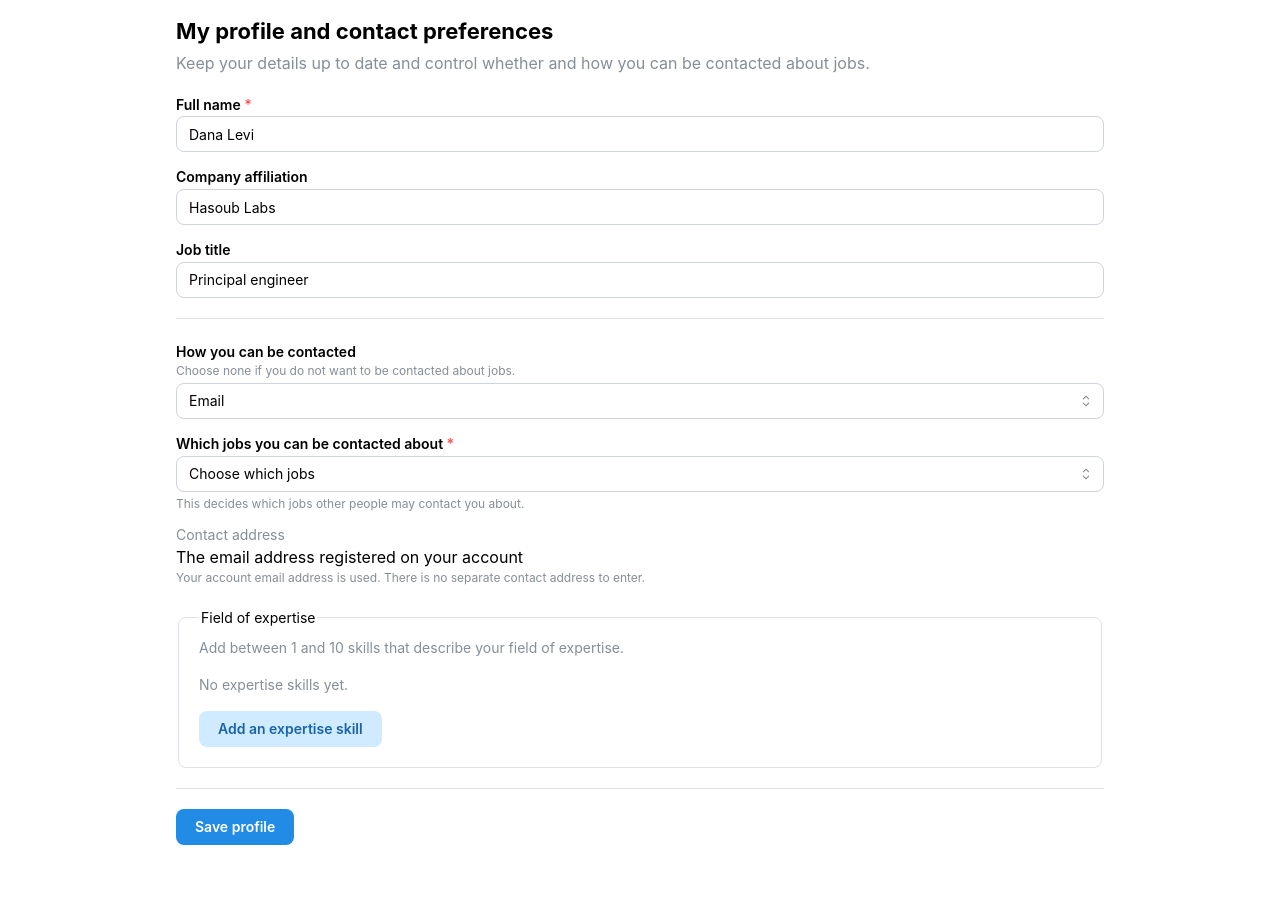
Test: the Contact_Scope_Preference control (Req 10 AC4) › reports the missing scope on the control and issues no save
This screenshot has width=1280, height=900.
Click the button with test id "senior-profile-save": (235, 827) [176,809,294,845]
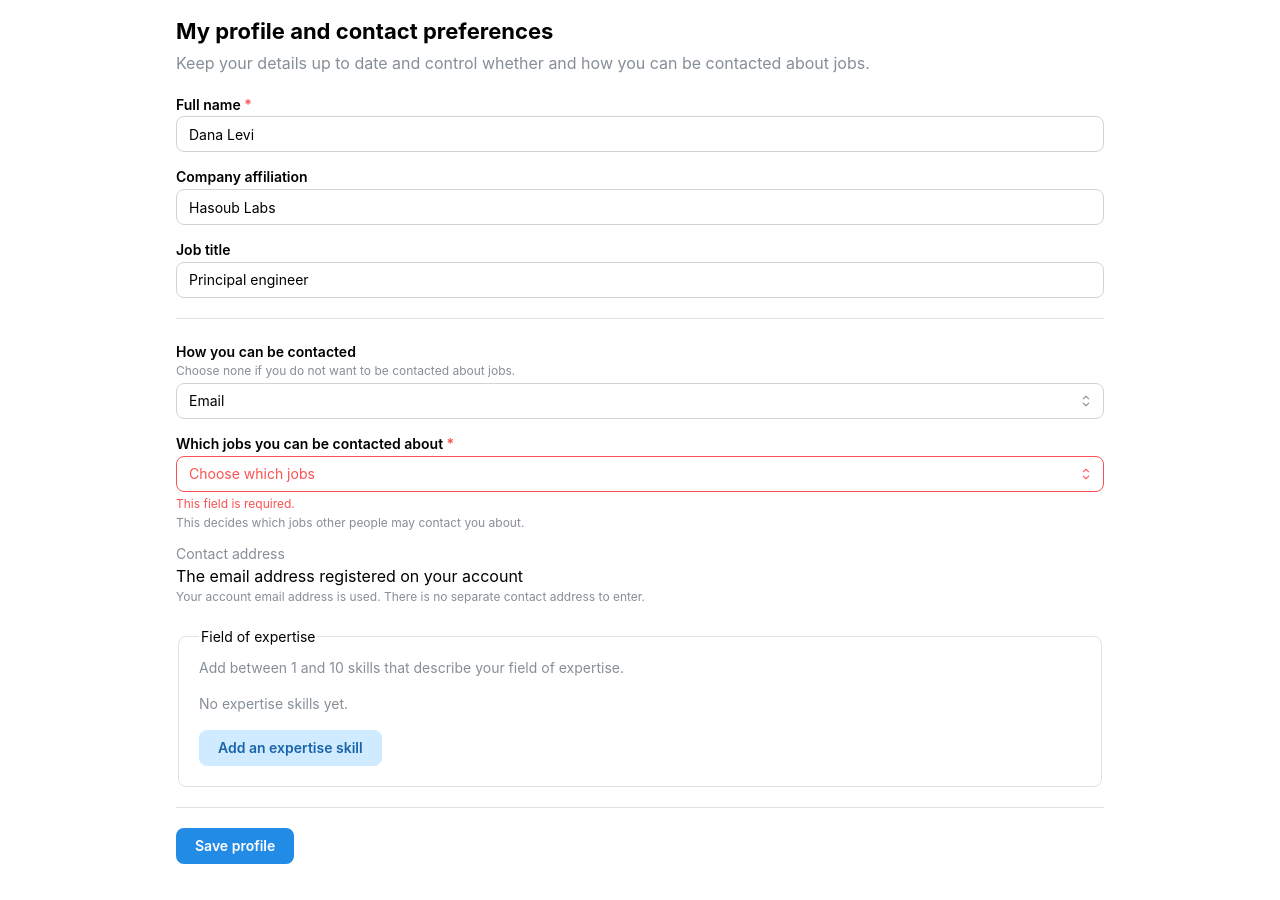
Now the text with test id "contact_scope_pref-violation" reads "This field is required.", box [176,496,295,511]
